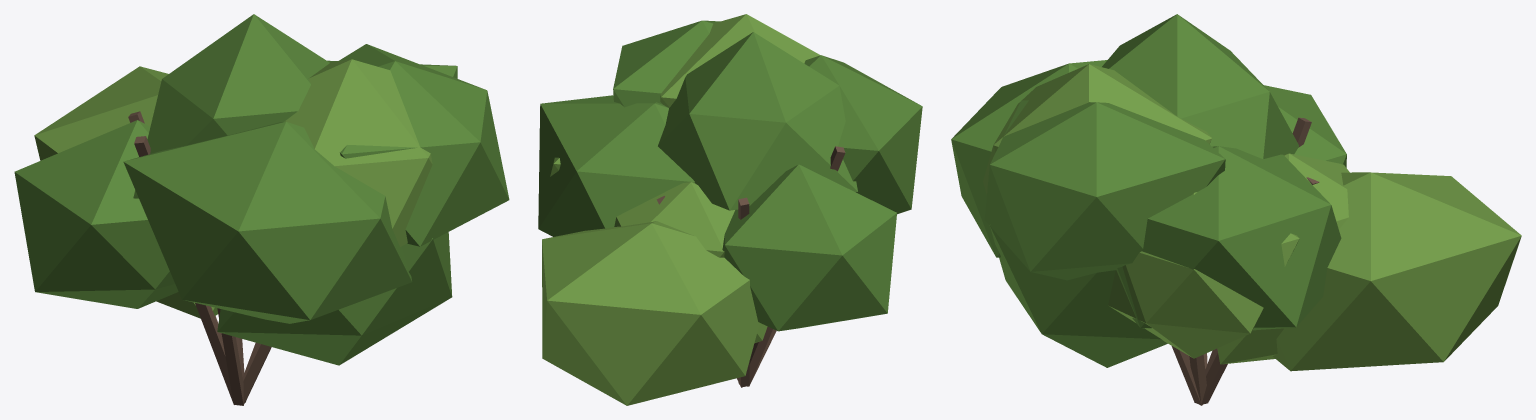
Rendered from hassel_1.glb.
The picture shows the model from 3 angles, left to right: view 1: azimuth 30°, elevation 25°; view 2: azimuth 150°, elevation 25°; view 3: azimuth 270°, elevation 25°; orthographic projection. The views are drawn at different scales.
Visible parts, largest first — view 1: hassel_1; view 2: hassel_1; view 3: hassel_1.
Part boxes in pixels (x1=…): hassel_1: x1=14, y1=14, x2=509, y2=405; hassel_1: x1=538, y1=14, x2=922, y2=405; hassel_1: x1=951, y1=14, x2=1521, y2=405.
Size of the model in its own units: 3.89 by 3.6 by 4.77.
